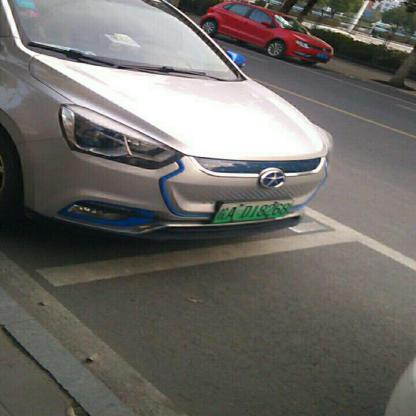lp: (212, 200, 294, 223)
